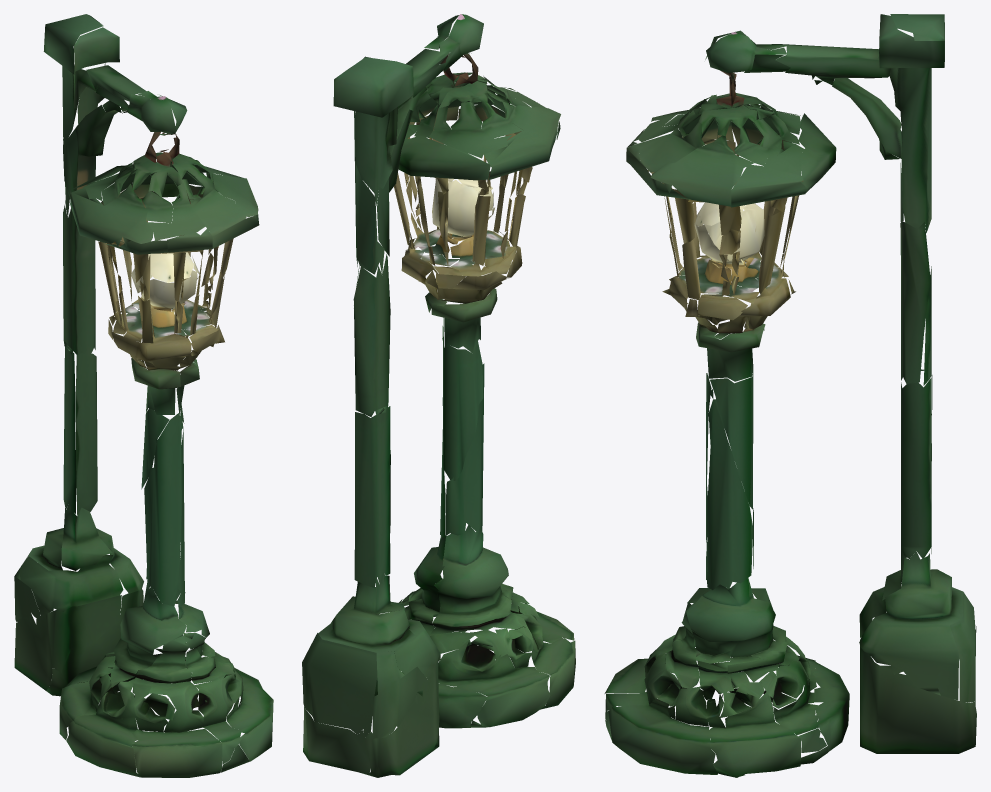
File: laterne_alt.glb
3 views of the same model, side by side, from view 1: azimuth 30°, elevation 25°; view 2: azimuth 150°, elevation 25°; view 3: azimuth 270°, elevation 25° (orthographic). The views are drawn at different scales.
Visible parts, largest first — view 1: tripo_node_1c018ebd-becc-4714-94fd-c2748b4bd843; view 2: tripo_node_1c018ebd-becc-4714-94fd-c2748b4bd843; view 3: tripo_node_1c018ebd-becc-4714-94fd-c2748b4bd843.
Part boxes in pixels (x1,y1,x2,y2): tripo_node_1c018ebd-becc-4714-94fd-c2748b4bd843: [14, 14, 273, 777]; tripo_node_1c018ebd-becc-4714-94fd-c2748b4bd843: [302, 14, 575, 777]; tripo_node_1c018ebd-becc-4714-94fd-c2748b4bd843: [604, 14, 976, 777].
Size of the model in its own units: 0.295 by 1 by 0.4759.
Materials: 1 (1 with a texture image).
